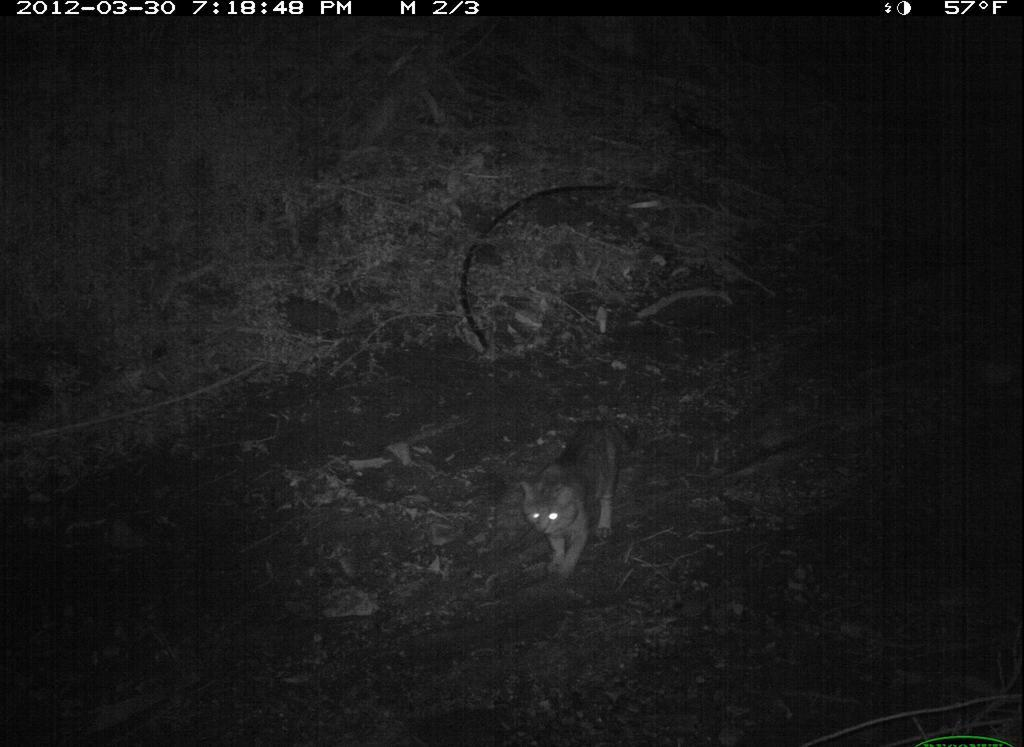cat: (501, 404, 651, 593)
